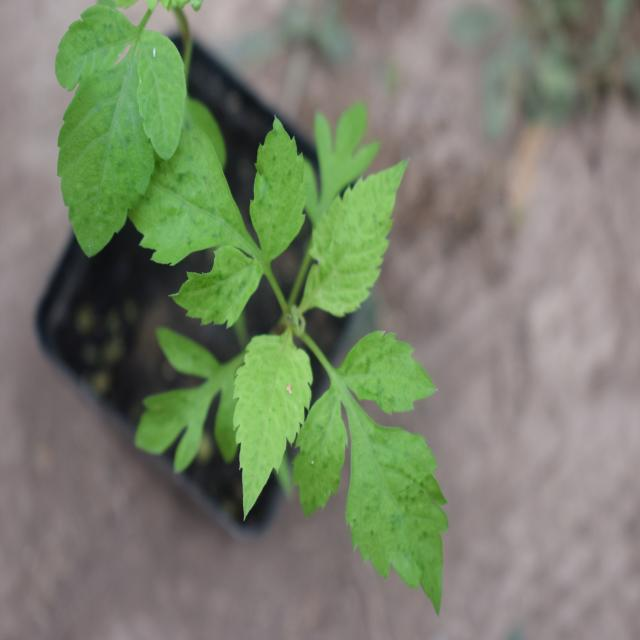Bidens pilosa: (56, 11, 460, 618)
